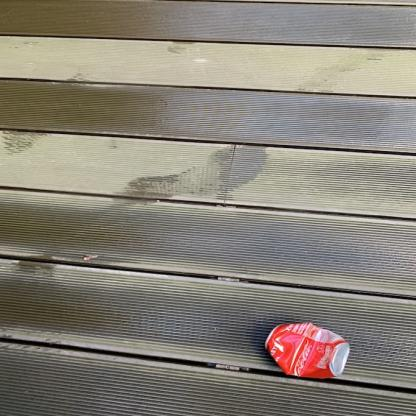Aerosols: (249, 310, 364, 382)
